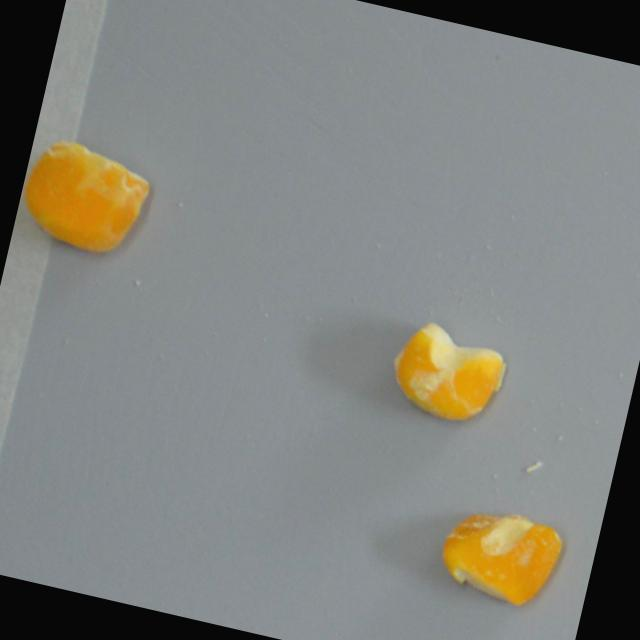pelicula: (13, 134, 156, 260), (432, 498, 565, 614), (382, 314, 510, 431)
